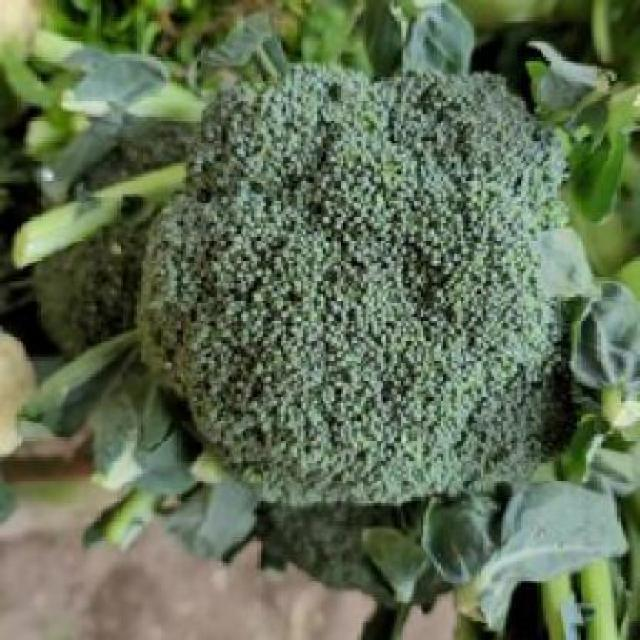broccoli: (146, 64, 592, 514)
